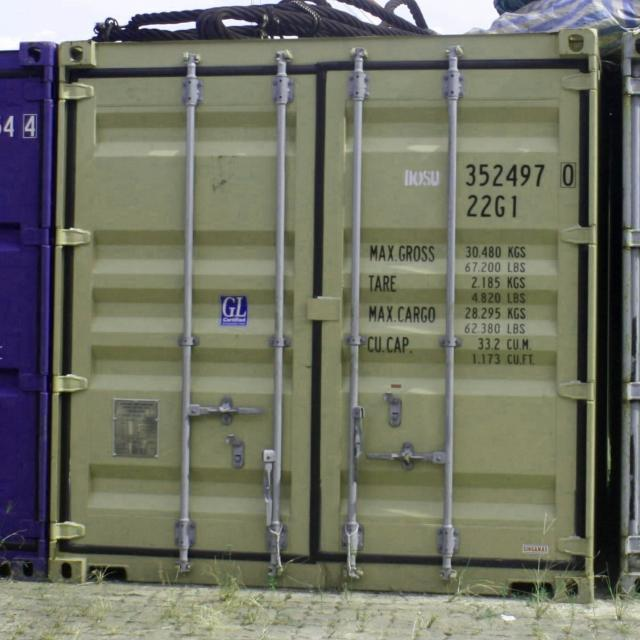ISO: (468, 196, 518, 220)
container_number: (404, 160, 572, 192)
